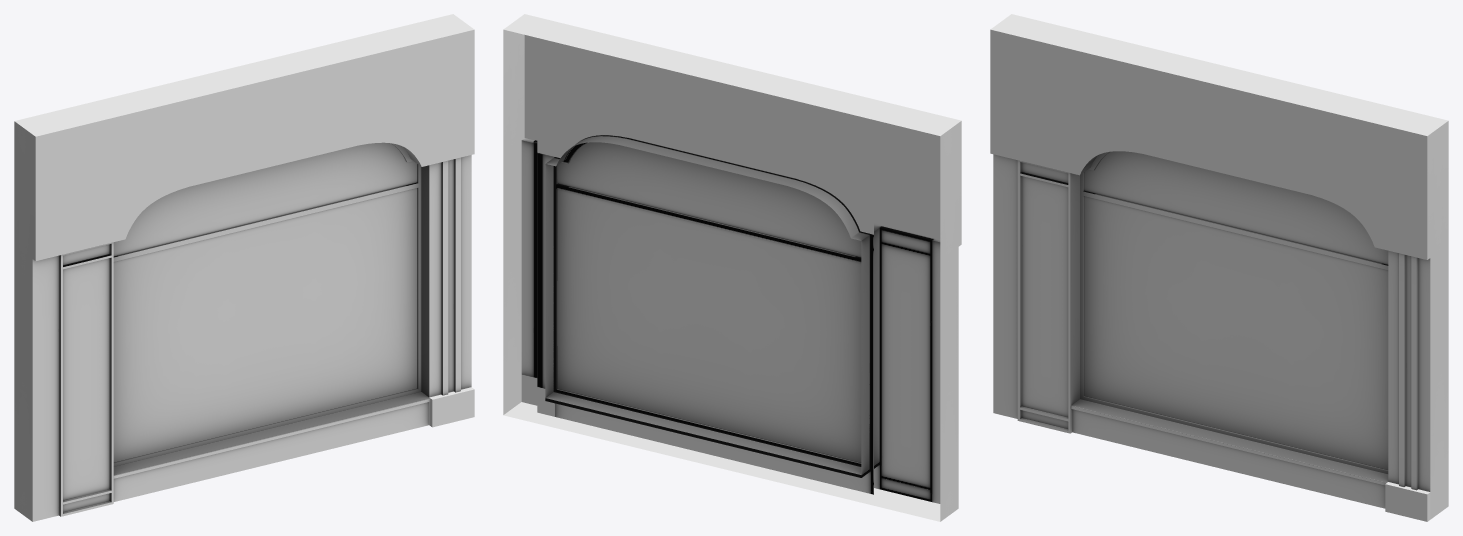
Rendered from floorfirst_4.glb.
3 views of the same model, side by side, from view 1: azimuth 30°, elevation 25°; view 2: azimuth 150°, elevation 25°; view 3: azimuth 330°, elevation 25° (orthographic).
Visible parts, largest first — view 1: floorfirst_4; view 2: floorfirst_4; view 3: floorfirst_4.
Boxes of the visible parts, <box> form: floorfirst_4: <box>14,14,474,521</box>; floorfirst_4: <box>503,14,961,521</box>; floorfirst_4: <box>990,14,1448,521</box>.
Size of the model in its own units: 4.15 by 3.5 by 0.35.
1 material, 1 textured.
